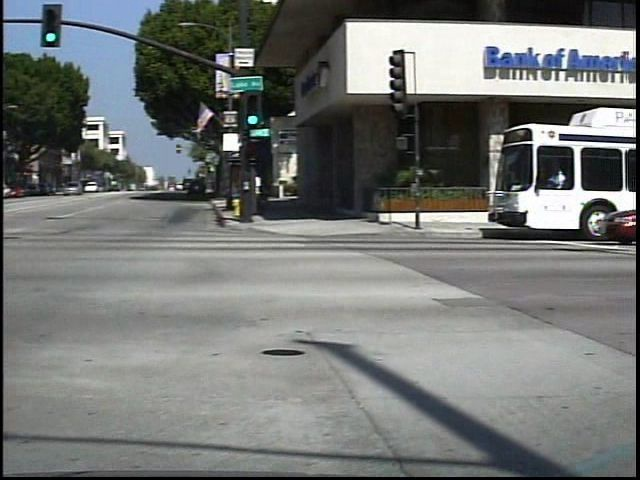person: (256, 167, 279, 217)
